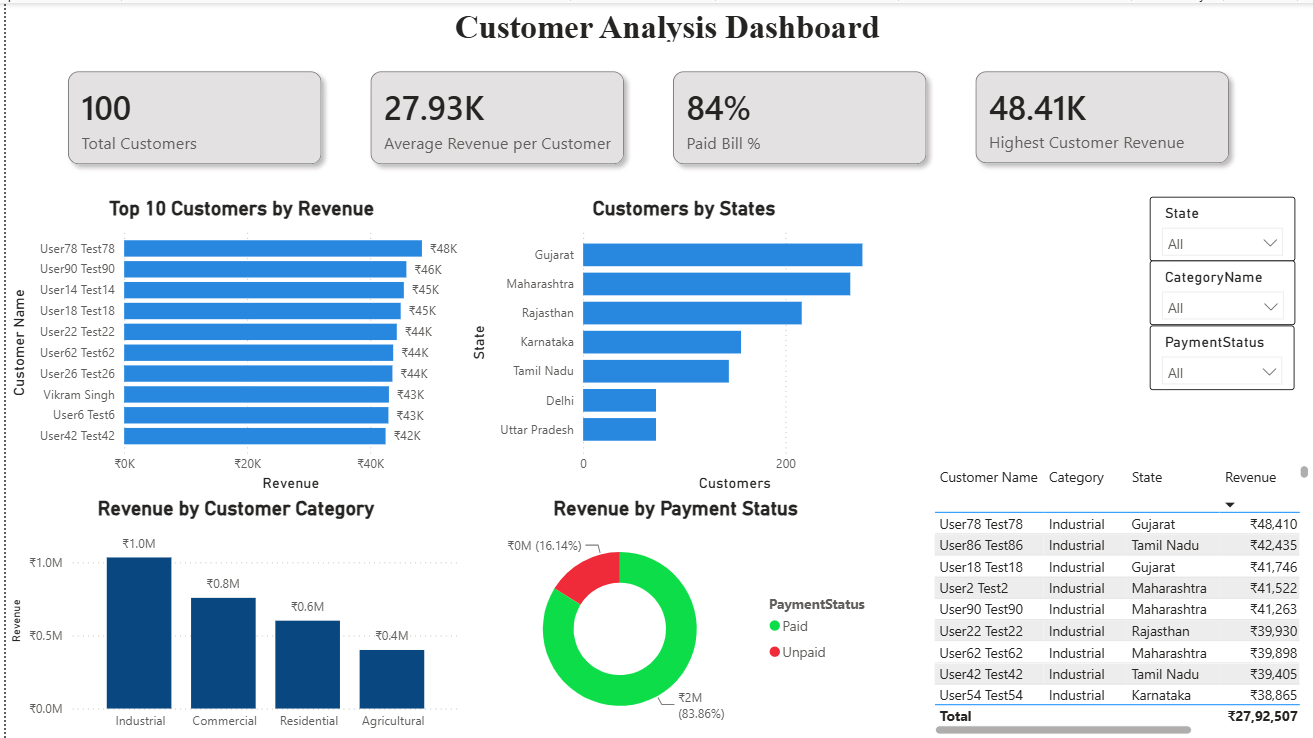

This screenshot's page, from the dashboard's own definition file:
{"tool":"powerbi","page":{"name":"Customer Analysis","canvas":[1280,720],"ordinal":1},"visuals":[{"type":"clusteredBarChart","title":"Top 10 Customers by Revenue","fields":{"Category":["vw_DashboardData.Customer Name"],"Y":["Sum(vw_DashboardData.BillAmount)"]},"box":[0,189.4,461.1,293.7],"z":0},{"type":"clusteredColumnChart","title":"Revenue by Customer Category","fields":{"Category":["vw_DashboardData.CategoryName"],"Y":["Sum(vw_DashboardData.BillAmount)"]},"box":[0,483,450.1,237.4],"z":1000},{"type":"clusteredBarChart","title":"Customers by States","fields":{"Category":["vw_DashboardData.StateName"],"Y":["CountNonNull(vw_DashboardData.CustomerID)"]},"box":[450.1,189.4,426.8,293.7],"z":2000},{"type":"donutChart","title":"Revenue by Payment Status","fields":{"Category":["vw_DashboardData.PaymentStatus"],"Y":["Sum(vw_DashboardData.BillAmount)"]},"box":[450.1,483,410.3,237.4],"z":3000},{"type":"tableEx","fields":{"Values":["vw_DashboardData.Customer Name","vw_DashboardData.CategoryName","vw_DashboardData.StateName","Sum(vw_DashboardData.BillAmount)","vw_DashboardData.PaymentStatus","Sum(vw_DashboardData.UnitsConsumed)"]},"box":[902.9,447.3,377.4,273.1],"z":4000},{"type":"textbox","box":[433.6,0,459.7,56.3],"z":5000},{"type":"cardVisual","fields":{"Data":["Measures (2).Total Customers"]},"box":[31.6,38.4,306,149.6],"z":6000},{"type":"cardVisual","fields":{"Data":["Measures (2).Average Revenue per Customer"]},"box":[327.5,38.4,306,149.6],"z":7000},{"type":"cardVisual","fields":{"Data":["Measures (2).Paid Bill %"]},"box":[623.4,38.4,306,149.6],"z":8000},{"type":"cardVisual","fields":{"Data":["Measures (2).Highest Customer Revenue"]},"box":[919.4,38.4,306,148.2],"z":9000},{"type":"slicer","fields":{"Values":["vw_DashboardData.StateName"]},"box":[1118.4,189.4,142,63.1],"z":10000},{"type":"slicer","fields":{"Values":["vw_DashboardData.CategoryName"]},"box":[1118.4,252.5,142.7,63.1],"z":11000},{"type":"slicer","fields":{"Values":["vw_DashboardData.PaymentStatus"]},"box":[1118.4,315.6,141.3,63.1],"z":12000}]}

Visuals, with their boxes in screenshot pixels (x1, y1, x2, y2), scaled from the page's 1280x720 canvas onto the 1313x738 screenshot:
"Top 10 Customers by Revenue" clusteredBarChart: locate(0, 194, 473, 495)
"Revenue by Customer Category" clusteredColumnChart: locate(0, 495, 462, 737)
"Customers by States" clusteredBarChart: locate(462, 194, 900, 495)
"Revenue by Payment Status" donutChart: locate(462, 495, 883, 737)
tableEx - vw_DashboardData.Customer Name x vw_DashboardData.CategoryName: locate(926, 458, 1312, 737)
textbox: locate(445, 0, 916, 58)
cardVisual - Measures (2).Total Customers: locate(32, 39, 346, 193)
cardVisual - Measures (2).Average Revenue per Customer: locate(336, 39, 650, 193)
cardVisual - Measures (2).Paid Bill %: locate(639, 39, 953, 193)
cardVisual - Measures (2).Highest Customer Revenue: locate(943, 39, 1257, 191)
slicer - vw_DashboardData.StateName: locate(1147, 194, 1293, 259)
slicer - vw_DashboardData.CategoryName: locate(1147, 259, 1294, 323)
slicer - vw_DashboardData.PaymentStatus: locate(1147, 323, 1292, 388)
